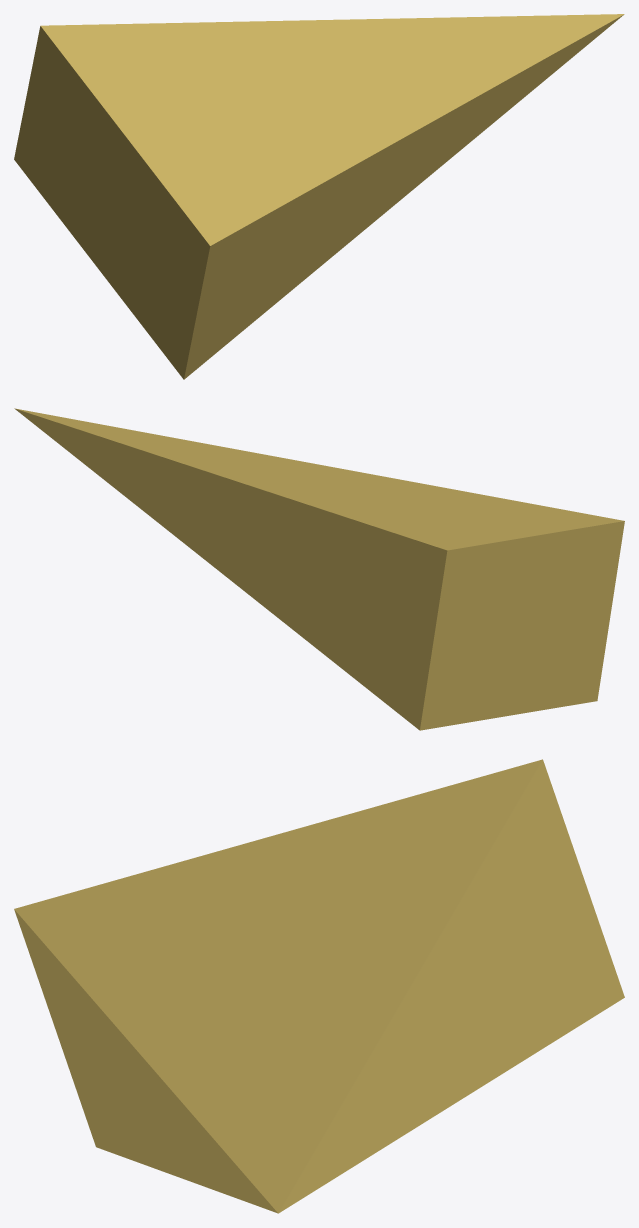
File: yellow1.fbx
The picture shows the model from 3 angles, top to bottom: view 1: azimuth 30°, elevation 25°; view 2: azimuth 150°, elevation 25°; view 3: azimuth 270°, elevation 25°; orthographic projection. The views are drawn at different scales.
Parts seen in each view (by area): view 1: Object_1; view 2: Object_1; view 3: Object_1.
Boxes of the visible parts, box(x1,y1,x2,y2) form: Object_1: box(14, 14, 624, 379); Object_1: box(14, 408, 624, 730); Object_1: box(14, 759, 624, 1213).
Bounding box in the file's own units: 1.82 × 1.24 × 0.8693.
